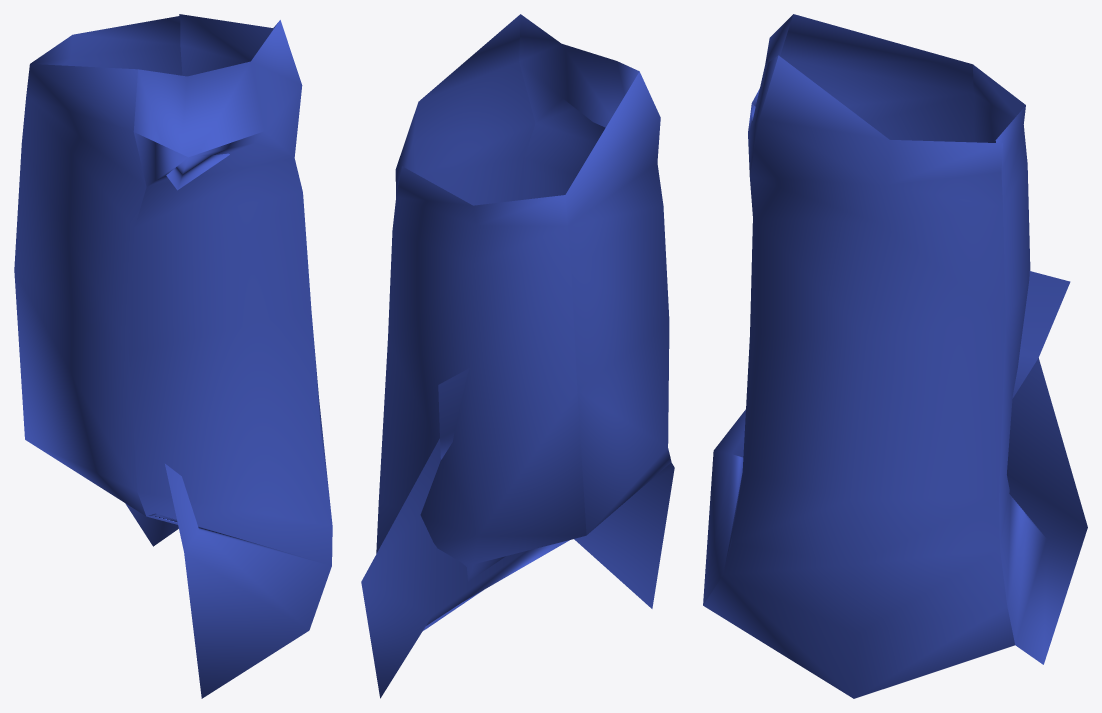
Rendered from left_arm.glb.
3 renders of one model, left to right at view 1: azimuth 30°, elevation 25°; view 2: azimuth 150°, elevation 25°; view 3: azimuth 270°, elevation 25°, orthographic. The views are drawn at different scales.
Visible parts, largest first — view 1: sweater-blue_LEFT_ARM; view 2: sweater-blue_LEFT_ARM; view 3: sweater-blue_LEFT_ARM.
Boxes of the visible parts, bbox=[...] form: sweater-blue_LEFT_ARM: bbox=[14, 14, 332, 698]; sweater-blue_LEFT_ARM: bbox=[361, 14, 674, 698]; sweater-blue_LEFT_ARM: bbox=[703, 14, 1087, 698].
Bounding box in the file's own units: 0.1311 × 0.3242 × 0.184.
Materials: 1 (1 with a texture image).
